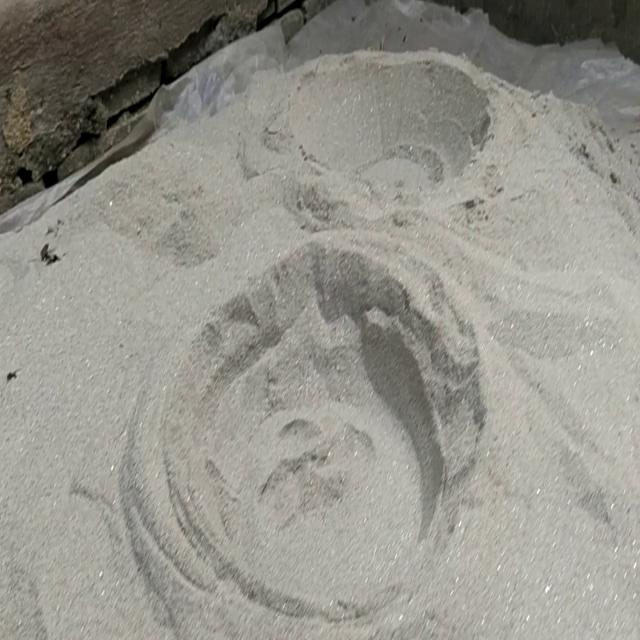C20: (121, 236, 485, 636), (288, 56, 490, 191)
